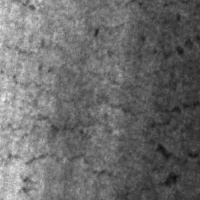crazing: (0, 37, 136, 179), (137, 32, 199, 199), (88, 0, 199, 52)
